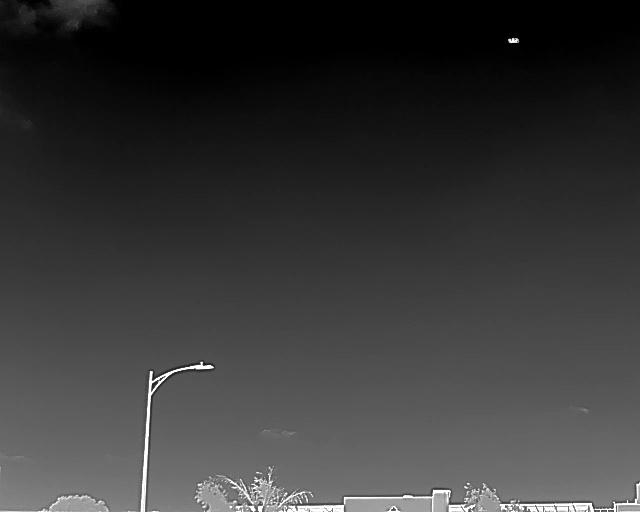fpv-drone: (508, 38, 518, 43)
